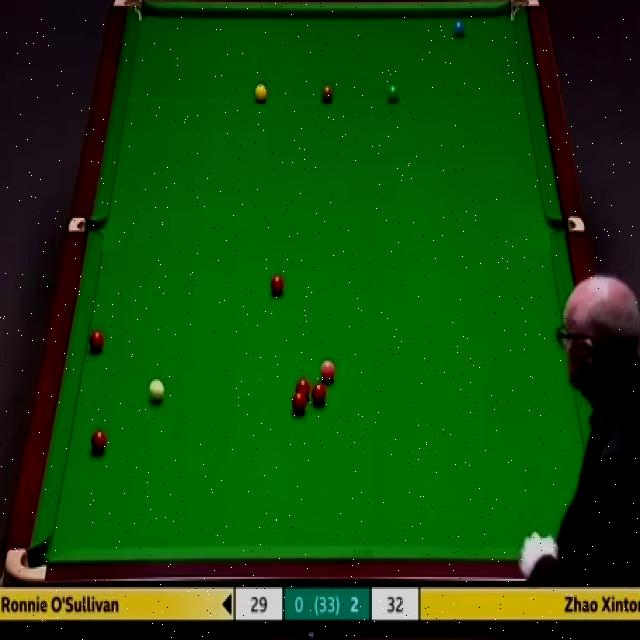blue-ball: (452, 15, 467, 40)
brown-ball: (321, 84, 334, 106)
green-ball: (386, 84, 400, 105)
pink-ball: (317, 360, 336, 384)
red-ball: (90, 428, 108, 456), (269, 273, 286, 298), (310, 382, 328, 405), (291, 392, 307, 416), (88, 329, 103, 354), (294, 378, 311, 399)
white-ball: (147, 375, 165, 404)
yellow-ball: (254, 83, 268, 104)
